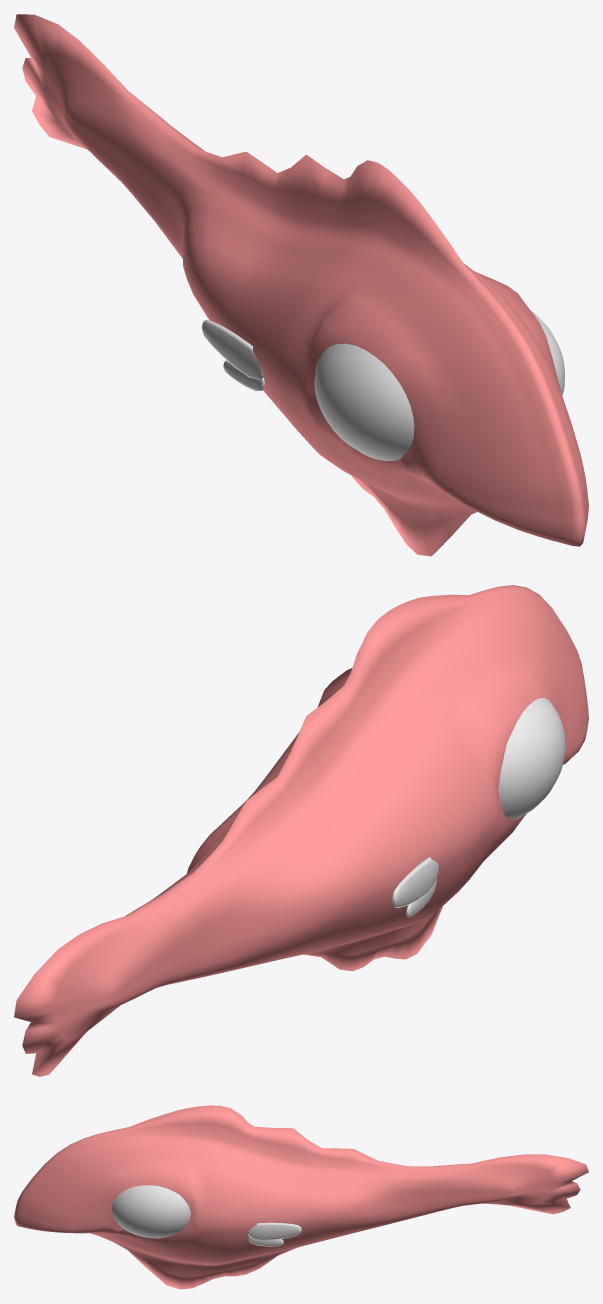
Rendered from GooberFish_FBX_V1.fbx.
3 renders of one model, top to bottom at view 1: azimuth 30°, elevation 25°; view 2: azimuth 150°, elevation 25°; view 3: azimuth 270°, elevation 25°, orthographic. The views are drawn at different scales.
Visible parts, largest first — view 1: GooberFish_Body, GooberFish_RightEye, GooberFish_RightFin; view 2: GooberFish_Body, GooberFish_RightEye, GooberFish_RightFin; view 3: GooberFish_Body, GooberFish_LeftEye, GooberFish_LeftFin.
Boxes of the visible parts, x1,y1,x2,y2 form: GooberFish_Body: [14, 14, 588, 556]; GooberFish_RightEye: [314, 343, 414, 460]; GooberFish_RightFin: [201, 319, 264, 391]; GooberFish_Body: [14, 585, 588, 1076]; GooberFish_RightEye: [498, 698, 565, 819]; GooberFish_RightFin: [391, 856, 439, 917]; GooberFish_Body: [14, 1105, 588, 1289]; GooberFish_LeftEye: [112, 1185, 190, 1238]; GooberFish_LeftFin: [247, 1222, 301, 1246].
Bounding box in the file's own units: 26.78 × 42.53 × 120.
